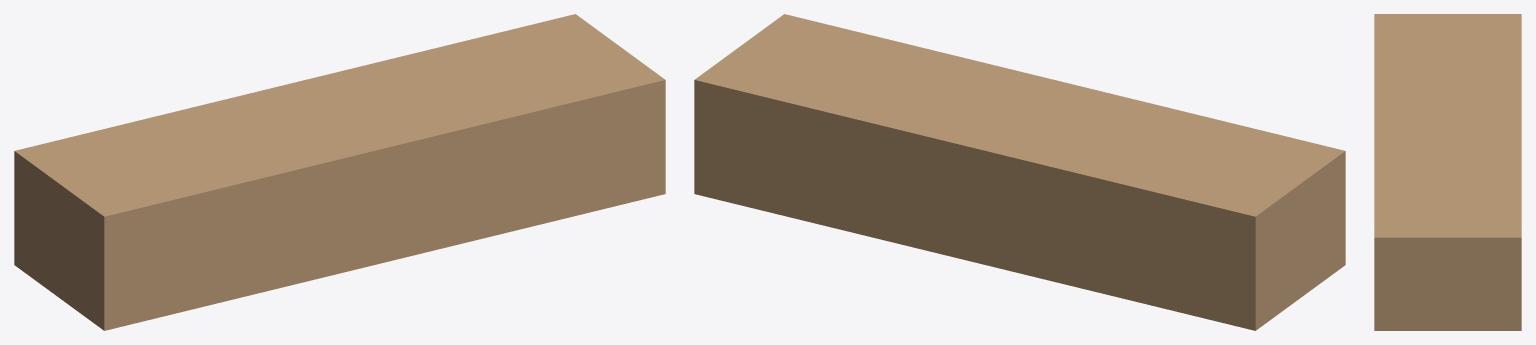
Rendered from Prop_Water_AMF_Trough_V3.glb.
3 views of the same model, side by side, from view 1: azimuth 30°, elevation 25°; view 2: azimuth 150°, elevation 25°; view 3: azimuth 270°, elevation 25° (orthographic). The views are drawn at different scales.
Visible parts, largest first — view 1: Prop_Water_AMF_Trough_V3; view 2: Prop_Water_AMF_Trough_V3; view 3: Prop_Water_AMF_Trough_V3.
Boxes of the visible parts, left/top/right/bottom form: Prop_Water_AMF_Trough_V3: left=14, top=14, right=665, bottom=330; Prop_Water_AMF_Trough_V3: left=694, top=14, right=1345, bottom=330; Prop_Water_AMF_Trough_V3: left=1374, top=14, right=1521, bottom=330.
Size of the model in its own units: 1.8 by 0.35 by 0.5.
